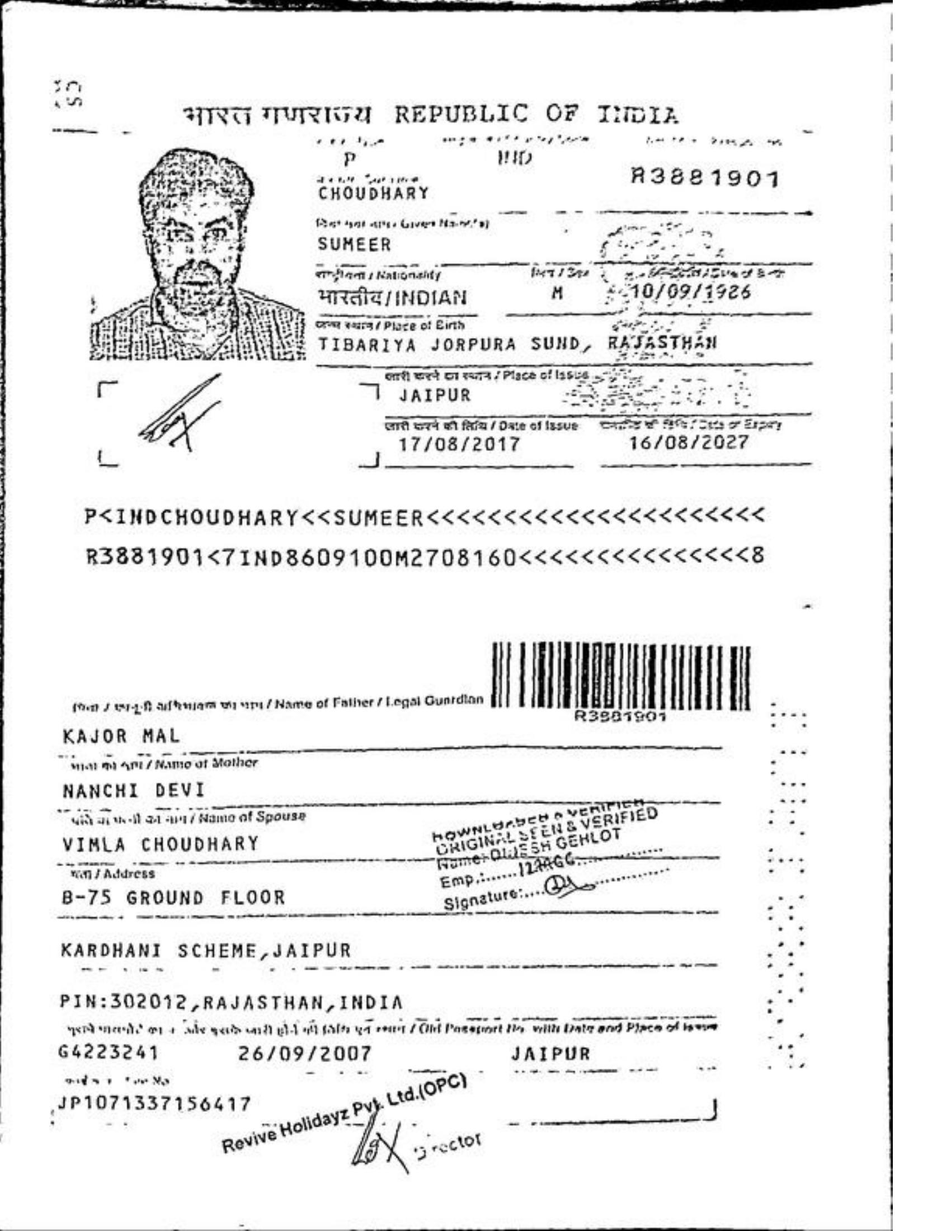DOB: (616, 276, 765, 308)
File_no: (46, 1090, 263, 1124)
Surname: (310, 179, 440, 206)
address: (48, 862, 422, 1018)
country_code: (489, 141, 540, 176)
date_of_expiry: (613, 426, 759, 461)
date_of_issue: (389, 428, 529, 470)
details: (56, 492, 781, 577)
father_name: (48, 713, 197, 755)
mother_name: (59, 775, 224, 807)
name: (302, 220, 501, 257)
nationality: (308, 281, 477, 314)
old_passport_details: (50, 1032, 614, 1076)
passport_no: (619, 156, 790, 196), (566, 699, 676, 731)
photo: (98, 141, 307, 359)
place_of_birth: (310, 333, 726, 365)
place_of_issue: (383, 373, 500, 411)
sex: (502, 267, 583, 314)
sign: (124, 383, 252, 454)
spouse_name: (49, 825, 276, 863)
type: (323, 143, 379, 175)
